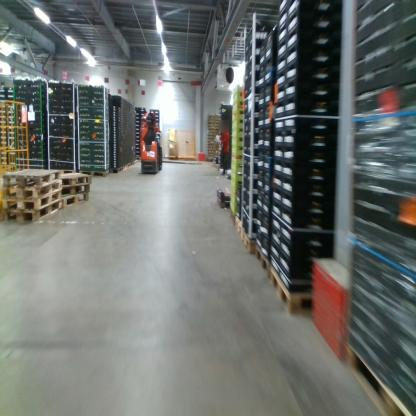pallet: (344, 345, 411, 414), (261, 254, 316, 320), (1, 177, 61, 203), (1, 167, 62, 189), (2, 189, 61, 210), (2, 204, 61, 224), (57, 168, 93, 187), (239, 219, 259, 253), (59, 191, 92, 210), (254, 239, 269, 276), (59, 183, 90, 199), (78, 169, 112, 178), (109, 163, 129, 174), (235, 212, 243, 236), (229, 207, 234, 227), (135, 155, 141, 160)
pallet_truck: (139, 106, 164, 181)
